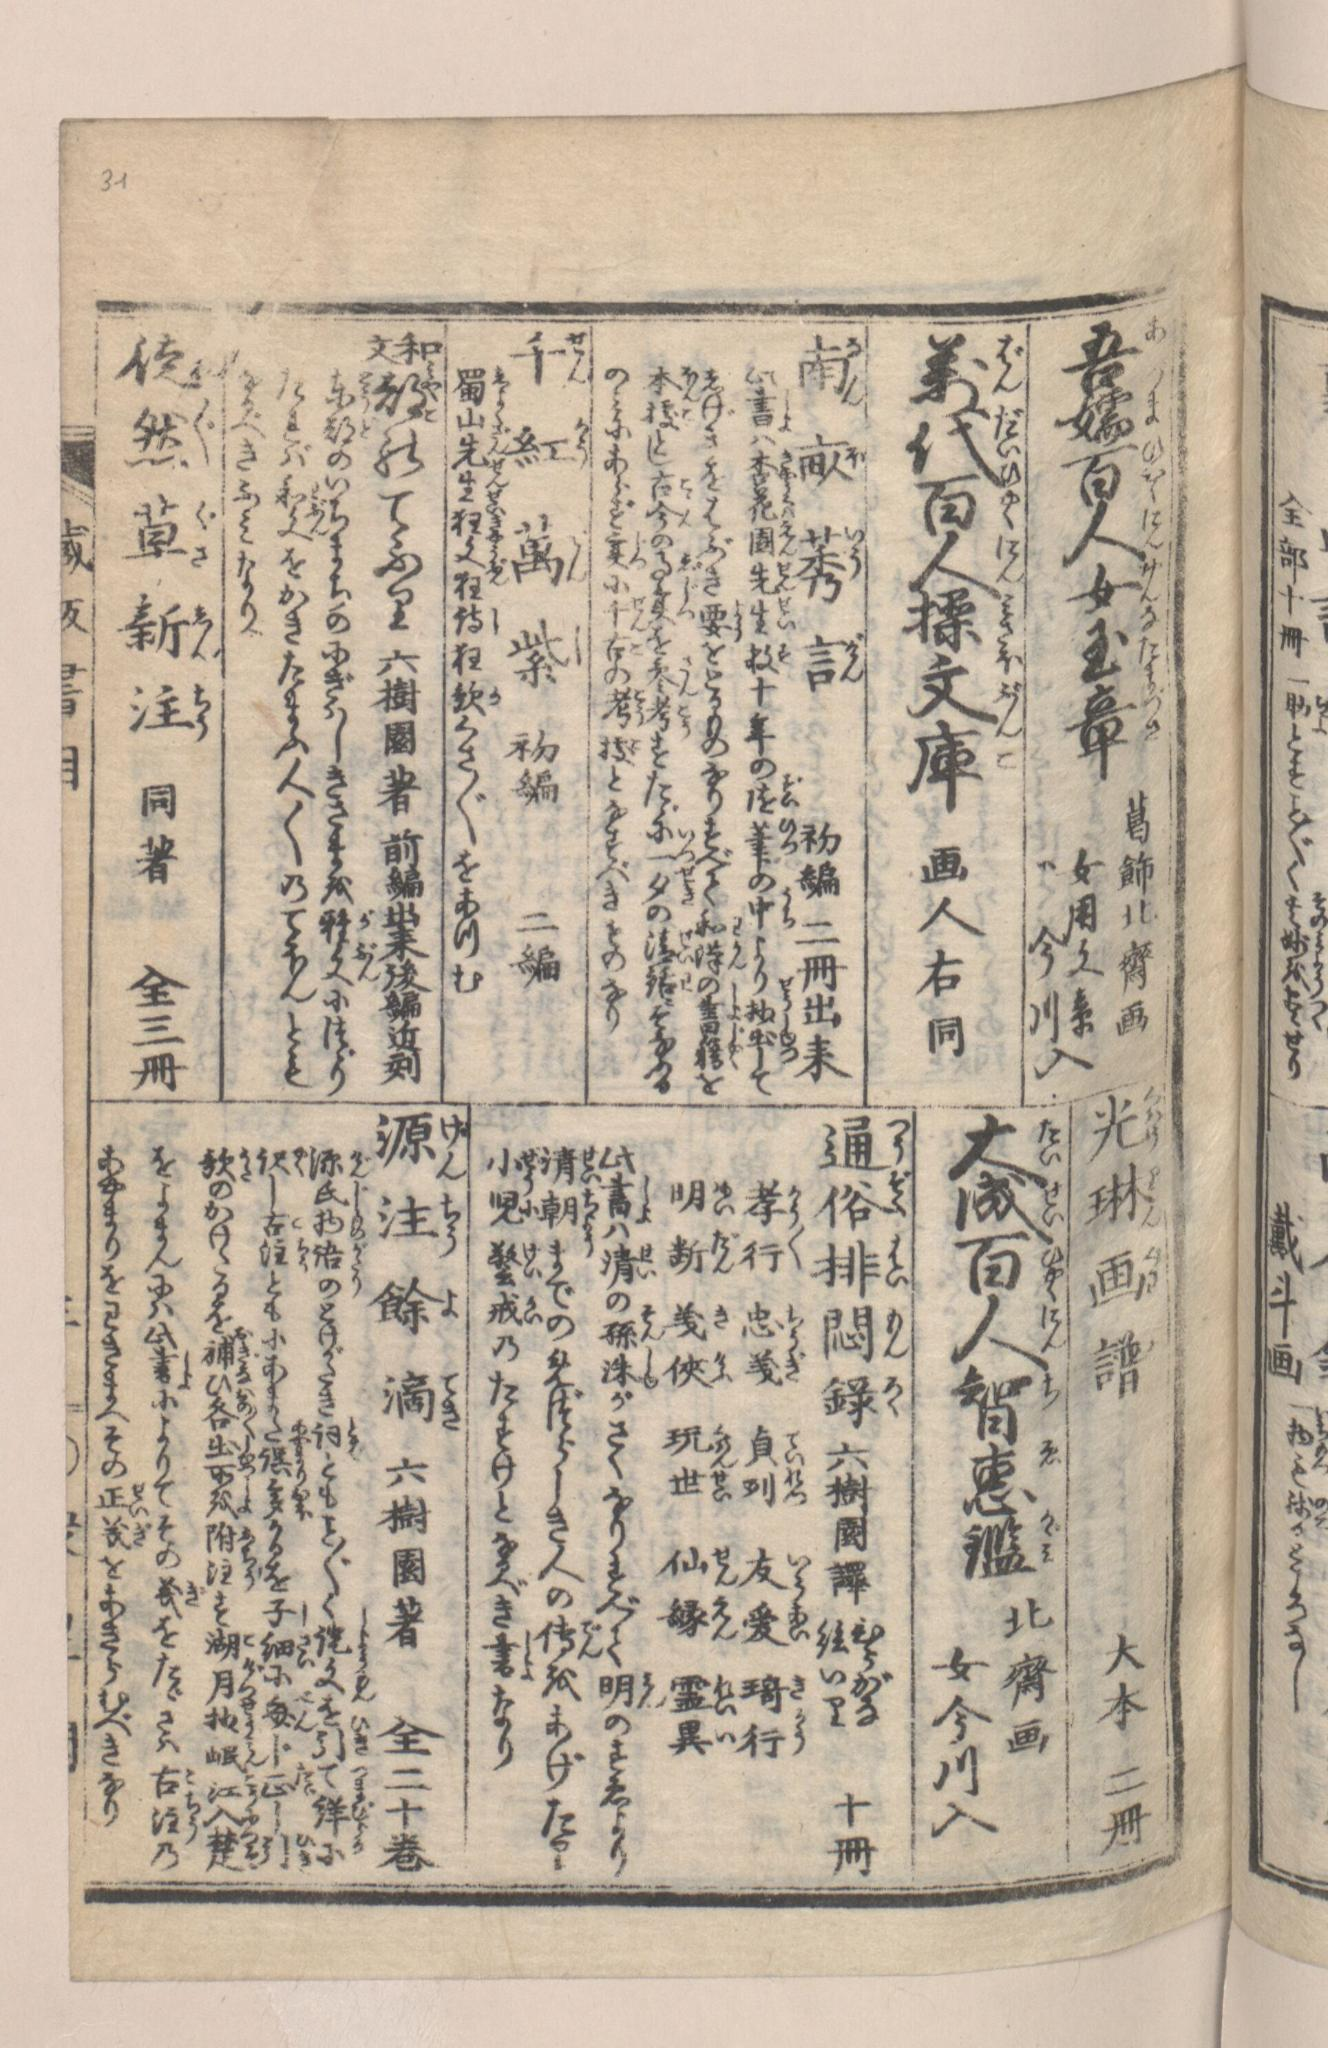MainZone-Character: (880, 722, 1027, 803), (889, 661, 1027, 737), (898, 591, 1027, 672), (1062, 681, 1167, 778), (903, 408, 1028, 484), (939, 1370, 1067, 1442), (956, 1437, 1068, 1518), (886, 472, 1028, 534), (942, 1300, 1067, 1369), (891, 533, 1025, 596), (943, 1233, 1067, 1299), (1061, 315, 1174, 385), (913, 333, 1027, 403), (955, 1512, 1065, 1584), (124, 493, 222, 570), (116, 593, 222, 664), (943, 1172, 1067, 1233), (946, 1120, 1068, 1181), (375, 1108, 470, 1182), (1074, 608, 1171, 681), (1053, 503, 1173, 560), (127, 399, 215, 473), (1065, 443, 1174, 503), (119, 676, 218, 742), (1077, 1087, 1171, 1155), (376, 1361, 464, 1434), (1079, 1158, 1167, 1230), (821, 1170, 912, 1239), (373, 1273, 461, 1340), (1083, 1239, 1167, 1309), (816, 1236, 909, 1299), (378, 1190, 463, 1257), (509, 619, 589, 690), (1053, 391, 1173, 437), (822, 1306, 915, 1366), (818, 1111, 915, 1167), (797, 528, 868, 605), (800, 328, 868, 406), (510, 519, 586, 588), (313, 1767, 373, 1854), (821, 1370, 912, 1427), (803, 627, 868, 696), (512, 416, 591, 473), (536, 1185, 600, 1254), (519, 328, 594, 387), (373, 363, 445, 422), (660, 1591, 737, 1645), (740, 1546, 819, 1599), (1065, 566, 1162, 608), (655, 1542, 740, 1585), (794, 433, 864, 485), (663, 1423, 743, 1467), (315, 1606, 373, 1667), (816, 1615, 888, 1664), (742, 1345, 813, 1393), (742, 1597, 810, 1646), (670, 1227, 740, 1275), (742, 1227, 813, 1273), (740, 1467, 816, 1511), (313, 1658, 382, 1706), (204, 1827, 273, 1875), (742, 1714, 804, 1764), (668, 1176, 737, 1223), (664, 1346, 733, 1391), (740, 1297, 804, 1345), (597, 1242, 661, 1290), (670, 1673, 740, 1717), (322, 945, 386, 991), (312, 1240, 369, 1293), (485, 1237, 543, 1287), (748, 815, 798, 870), (743, 1423, 807, 1466), (597, 1346, 661, 1390), (540, 1617, 604, 1660), (597, 1305, 665, 1345), (260, 1690, 319, 1736), (485, 1630, 537, 1682), (668, 1469, 739, 1508), (149, 1794, 204, 1843), (204, 1327, 255, 1379), (745, 979, 800, 1027), (740, 1669, 803, 1711), (668, 1300, 733, 1340), (743, 1181, 804, 1223), (206, 1660, 261, 1706), (319, 905, 382, 945), (600, 1667, 658, 1711), (307, 1143, 375, 1181), (606, 1170, 654, 1223), (206, 1390, 260, 1436), (366, 331, 445, 363), (668, 1718, 734, 1755), (551, 1140, 603, 1187), (486, 1291, 545, 1331), (324, 369, 376, 413), (640, 866, 697, 906), (455, 366, 512, 406), (257, 1763, 315, 1802), (815, 1667, 894, 1696), (748, 885, 797, 930), (146, 1349, 197, 1393), (488, 1188, 540, 1230), (748, 775, 801, 815), (822, 1697, 885, 1732), (260, 1632, 315, 1670), (649, 655, 700, 697), (203, 1558, 264, 1593), (203, 1523, 264, 1557), (748, 521, 801, 560), (694, 937, 748, 976), (748, 390, 795, 433), (651, 699, 700, 740), (313, 1417, 363, 1458), (749, 596, 800, 636), (201, 1705, 258, 1741), (151, 1578, 204, 1615), (701, 597, 745, 643), (198, 1627, 257, 1661), (645, 963, 694, 1003), (198, 1145, 254, 1181), (451, 566, 510, 599), (748, 1025, 801, 1061), (646, 366, 700, 402), (95, 1485, 157, 1517), (452, 436, 510, 469), (651, 581, 695, 622), (643, 500, 697, 534), (451, 682, 504, 717), (601, 531, 651, 569), (603, 596, 654, 631), (604, 688, 648, 730), (203, 1745, 270, 1772), (749, 558, 797, 596), (743, 642, 794, 676), (276, 478, 331, 509), (640, 928, 692, 961), (321, 415, 373, 448), (276, 511, 328, 543), (449, 512, 509, 540), (334, 1717, 372, 1761), (454, 603, 504, 636), (97, 1518, 152, 1548), (260, 1145, 307, 1179), (694, 909, 746, 940), (201, 1463, 258, 1491), (203, 1433, 257, 1463), (654, 549, 704, 581), (455, 408, 513, 434), (149, 1763, 198, 1794), (645, 402, 695, 431), (312, 1182, 372, 1208), (278, 1833, 313, 1875), (455, 487, 510, 513), (203, 1493, 258, 1520), (746, 449, 797, 478), (312, 1214, 369, 1239), (648, 473, 697, 502), (522, 1148, 552, 1194), (452, 542, 510, 564), (697, 994, 745, 1021), (694, 1045, 746, 1069), (598, 733, 640, 763), (601, 633, 645, 661), (597, 1140, 637, 1170), (695, 1020, 745, 1042), (751, 479, 795, 503), (748, 502, 798, 521), (454, 470, 513, 485), (648, 827, 697, 845), (643, 845, 700, 860)
MainZone-Ruby: (436, 1111, 473, 1184), (995, 596, 1027, 675), (348, 1767, 376, 1854), (995, 406, 1025, 481), (992, 333, 1027, 396), (839, 337, 867, 405), (191, 497, 216, 572), (436, 1367, 466, 1430), (994, 676, 1024, 736), (1143, 313, 1168, 382), (1137, 609, 1162, 678), (191, 600, 219, 661), (1140, 440, 1170, 497), (852, 1615, 886, 1663), (190, 402, 216, 461), (1143, 1087, 1167, 1154), (706, 1594, 739, 1642), (1037, 1303, 1067, 1354), (437, 1191, 461, 1254), (518, 1629, 545, 1684), (882, 1308, 910, 1360), (885, 1169, 913, 1220), (190, 679, 213, 739), (710, 1227, 740, 1275), (291, 1690, 321, 1738), (566, 333, 592, 385), (1039, 1242, 1064, 1297), (1141, 1163, 1162, 1229), (579, 1187, 598, 1257), (1140, 684, 1164, 740), (995, 536, 1024, 584), (421, 364, 443, 424), (842, 633, 867, 685), (885, 1117, 912, 1166), (1037, 1512, 1061, 1567), (1039, 1182, 1067, 1229), (1036, 1118, 1064, 1164), (710, 1421, 739, 1467), (710, 1545, 740, 1588), (637, 1300, 667, 1343), (564, 533, 588, 585), (354, 1605, 375, 1664), (882, 1240, 909, 1287), (346, 1711, 373, 1757), (845, 525, 865, 584), (236, 1326, 257, 1384), (786, 1708, 812, 1755), (345, 1240, 367, 1294), (354, 943, 382, 985), (855, 1667, 897, 1696), (712, 1672, 739, 1715), (234, 1390, 261, 1433), (1137, 508, 1165, 548), (997, 488, 1024, 530), (519, 1239, 546, 1281), (786, 1554, 813, 1594), (291, 1829, 315, 1873), (786, 1602, 812, 1643), (1143, 1243, 1162, 1297), (782, 1464, 809, 1503), (184, 1794, 204, 1843), (577, 1618, 603, 1658), (710, 1348, 736, 1388), (573, 418, 592, 470), (779, 1348, 804, 1387), (640, 1351, 663, 1394), (882, 1372, 903, 1418), (1039, 1436, 1064, 1473), (1037, 1369, 1059, 1411), (788, 1226, 809, 1270), (673, 700, 697, 739), (486, 434, 512, 470), (709, 1470, 734, 1506), (777, 979, 797, 1025), (349, 1669, 376, 1702), (676, 655, 698, 694), (636, 1173, 655, 1218), (1137, 564, 1161, 600), (524, 1297, 548, 1333), (676, 866, 697, 906), (713, 1179, 736, 1217), (294, 1632, 316, 1669), (355, 369, 375, 410), (776, 521, 798, 557), (677, 366, 700, 402), (628, 533, 651, 569), (636, 1669, 658, 1705), (779, 775, 803, 808), (855, 1696, 879, 1729), (780, 1429, 804, 1461), (777, 818, 798, 855), (634, 1243, 655, 1281), (580, 1143, 601, 1181), (260, 1833, 281, 1870), (774, 597, 797, 631), (128, 1484, 151, 1518), (677, 585, 697, 624), (179, 1352, 197, 1394), (351, 1148, 373, 1181), (239, 1660, 257, 1700), (243, 1743, 270, 1770), (242, 1557, 263, 1591), (777, 885, 794, 928), (673, 931, 695, 963), (789, 1670, 812, 1702), (236, 1460, 258, 1491), (240, 1703, 260, 1739), (630, 599, 651, 631), (994, 749, 1021, 775), (786, 1302, 804, 1339), (777, 1025, 797, 1060), (677, 551, 704, 575), (491, 366, 509, 402), (184, 1579, 206, 1608), (776, 563, 797, 593), (237, 1432, 258, 1461), (131, 1520, 152, 1549), (571, 622, 585, 669), (485, 566, 509, 591), (731, 597, 745, 642), (1144, 393, 1162, 425), (727, 939, 745, 972), (236, 1145, 252, 1181), (309, 479, 328, 509), (619, 1142, 639, 1172), (346, 1418, 361, 1457), (483, 490, 507, 513), (846, 442, 867, 469), (777, 391, 791, 433), (307, 509, 328, 536), (439, 1288, 457, 1320), (785, 1184, 800, 1220), (239, 1527, 257, 1557), (491, 409, 512, 434), (298, 1761, 313, 1796), (713, 1306, 731, 1334), (355, 905, 378, 927), (521, 1194, 537, 1224), (292, 1146, 307, 1179), (485, 515, 506, 537), (349, 1182, 370, 1205), (636, 690, 648, 727), (727, 1046, 746, 1069), (419, 334, 439, 357), (488, 470, 512, 488), (779, 451, 794, 479), (537, 1146, 552, 1173), (776, 645, 792, 669), (674, 967, 691, 991), (489, 605, 501, 637), (349, 1211, 366, 1234), (184, 1764, 198, 1790), (233, 1494, 252, 1514), (713, 1729, 734, 1746), (679, 475, 694, 499), (627, 636, 643, 657), (730, 993, 743, 1018), (358, 418, 372, 443), (730, 1023, 748, 1040), (676, 405, 694, 422), (677, 827, 697, 843), (489, 543, 506, 563), (677, 508, 692, 528), (676, 845, 697, 860), (488, 687, 503, 708), (780, 479, 794, 502), (780, 503, 797, 521), (731, 912, 743, 936), (240, 1632, 255, 1649), (628, 737, 640, 757)
